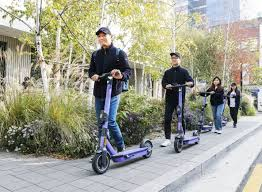kick_body: (185, 137, 197, 142)
kick_wheel: (93, 151, 109, 172), (141, 139, 153, 157), (175, 136, 182, 151)
